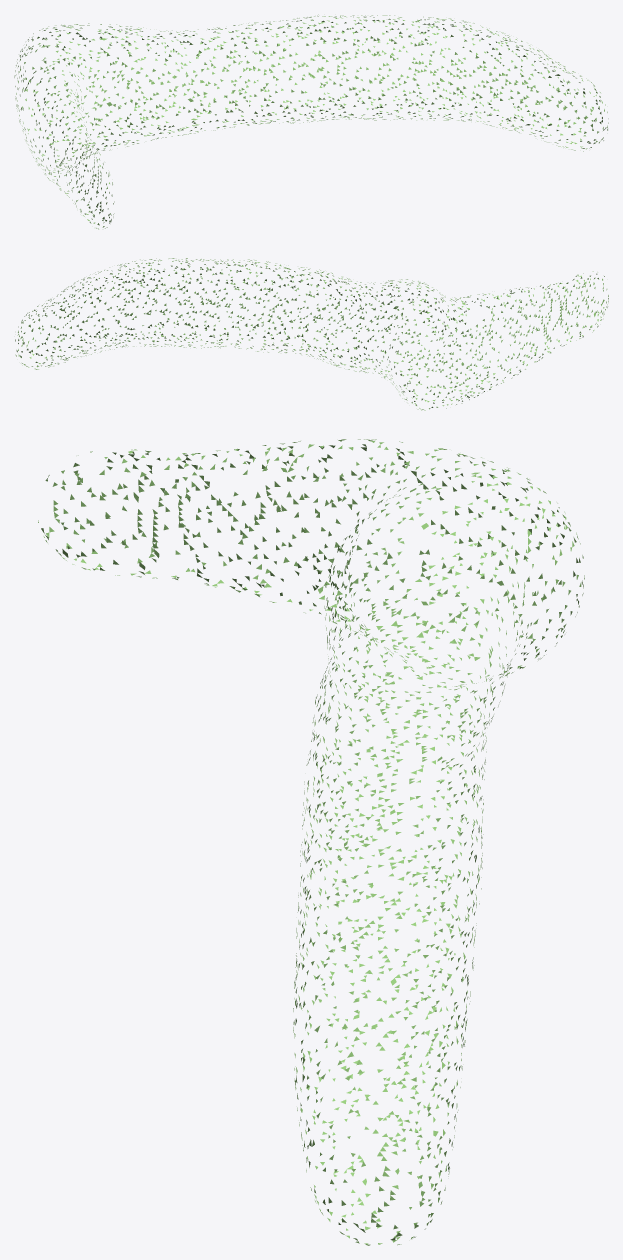
The model's file is morph_014.glb.
3 views of the same model, one above another, from view 1: azimuth 30°, elevation 25°; view 2: azimuth 150°, elevation 25°; view 3: azimuth 270°, elevation 25° (orthographic). The views are drawn at different scales.
Size of the model in its own units: 136 by 47.4 by 63.5.
